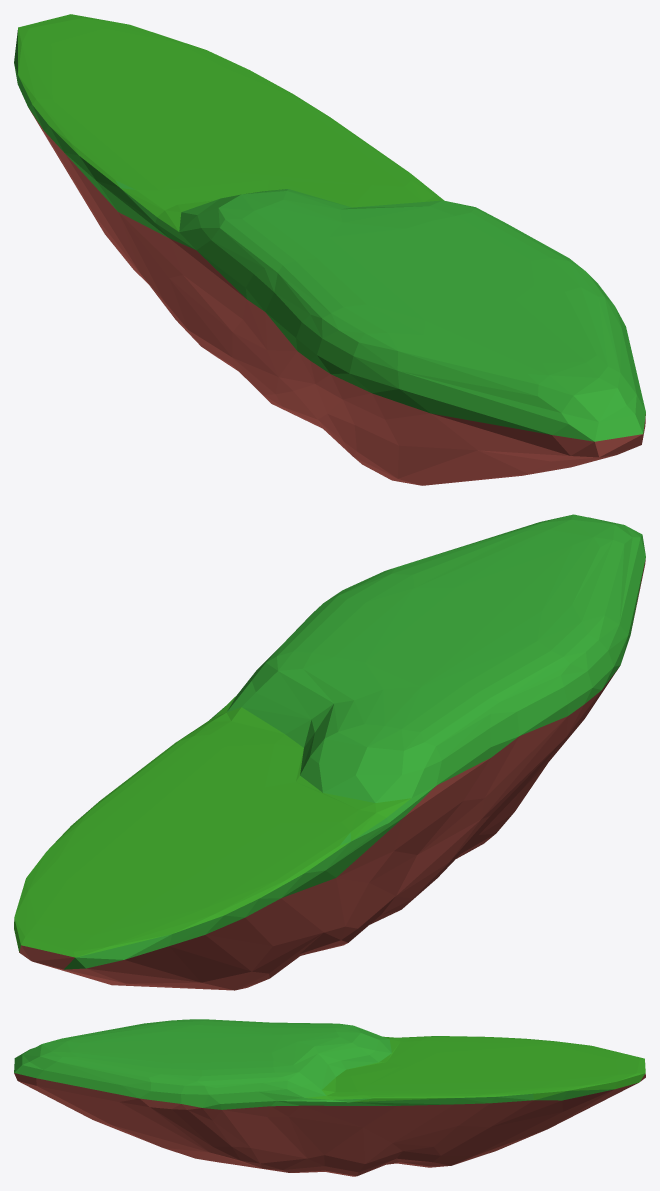
File: khoeneannean.fbx
3 renders of one model, top to bottom at view 1: azimuth 30°, elevation 25°; view 2: azimuth 150°, elevation 25°; view 3: azimuth 270°, elevation 25°, orthographic. The views are drawn at different scales.
Parts seen in each view (by area): view 1: island; view 2: island; view 3: island.
Part boxes in pixels (box(x1,y1,x2,y2)): island: box(14, 14, 645, 485); island: box(14, 514, 645, 990); island: box(14, 1019, 645, 1176).
Size of the model in its own units: 1691 by 1237 by 6082.
